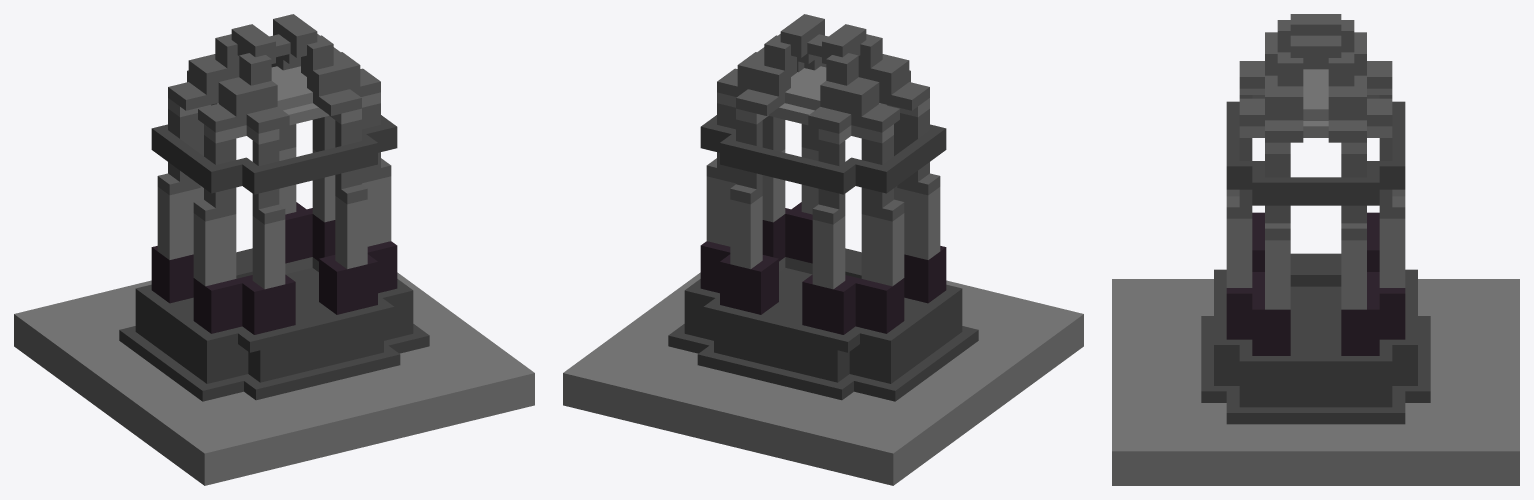
Rendered from _g_generator-1.obj.
The picture shows the model from 3 angles, left to right: view 1: azimuth 30°, elevation 25°; view 2: azimuth 150°, elevation 25°; view 3: azimuth 270°, elevation 25°; orthographic projection. The views are drawn at different scales.
Size of the model in its own units: 3.2 by 3.2 by 3.2.
